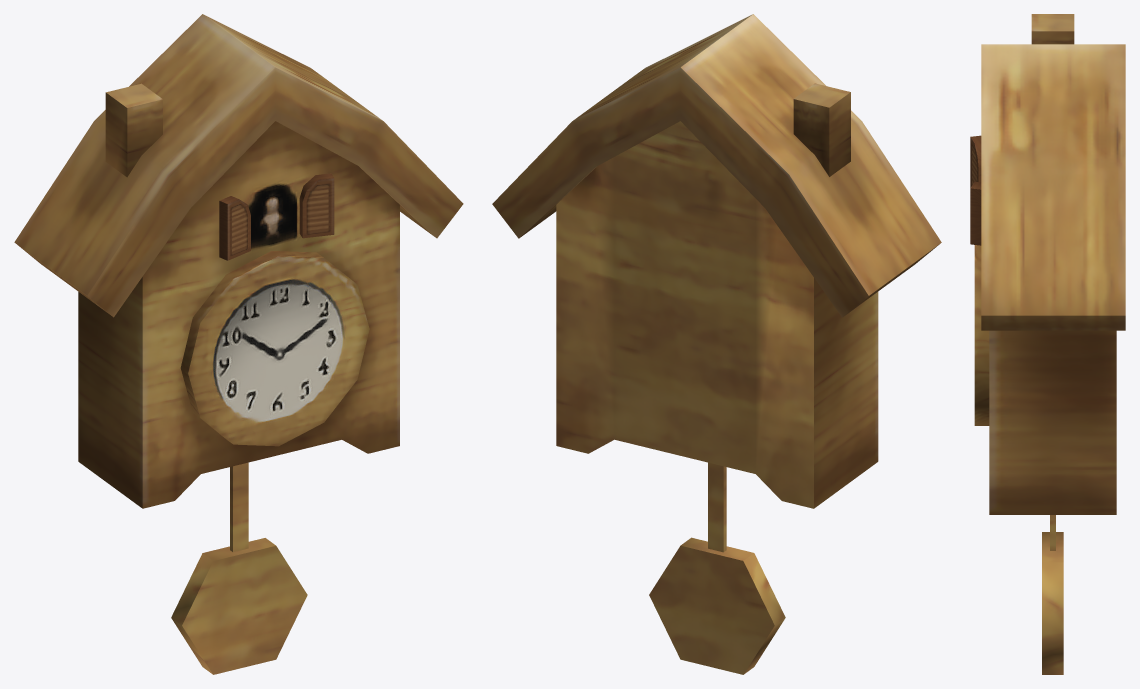
Rendered from CountryClock_HD.fbx.
The picture shows the model from 3 angles, left to right: view 1: azimuth 30°, elevation 25°; view 2: azimuth 150°, elevation 25°; view 3: azimuth 270°, elevation 25°; orthographic projection.
Parts seen in each view (by area): view 1: CountryClock; view 2: CountryClock; view 3: CountryClock.
Boxes of the visible parts, x1,y1,x2,y2 form: CountryClock: (14,14,463,674); CountryClock: (492,14,941,674); CountryClock: (970,14,1125,674).
Bounding box in the file's own units: 0.6615 × 1.05 × 0.239.
